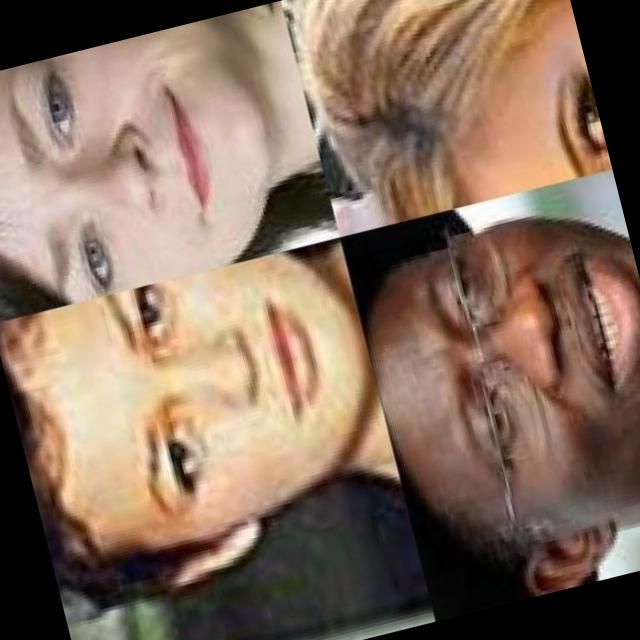bareface: (0, 239, 413, 607)
